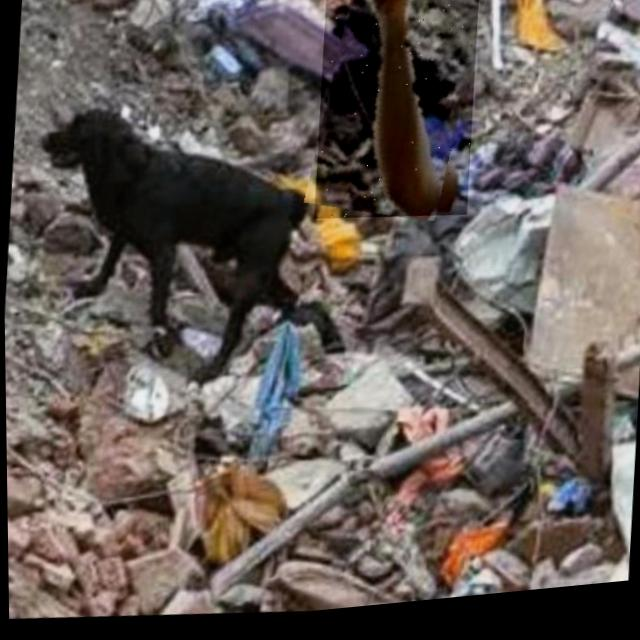Person in Rubble: (310, 0, 483, 236)
